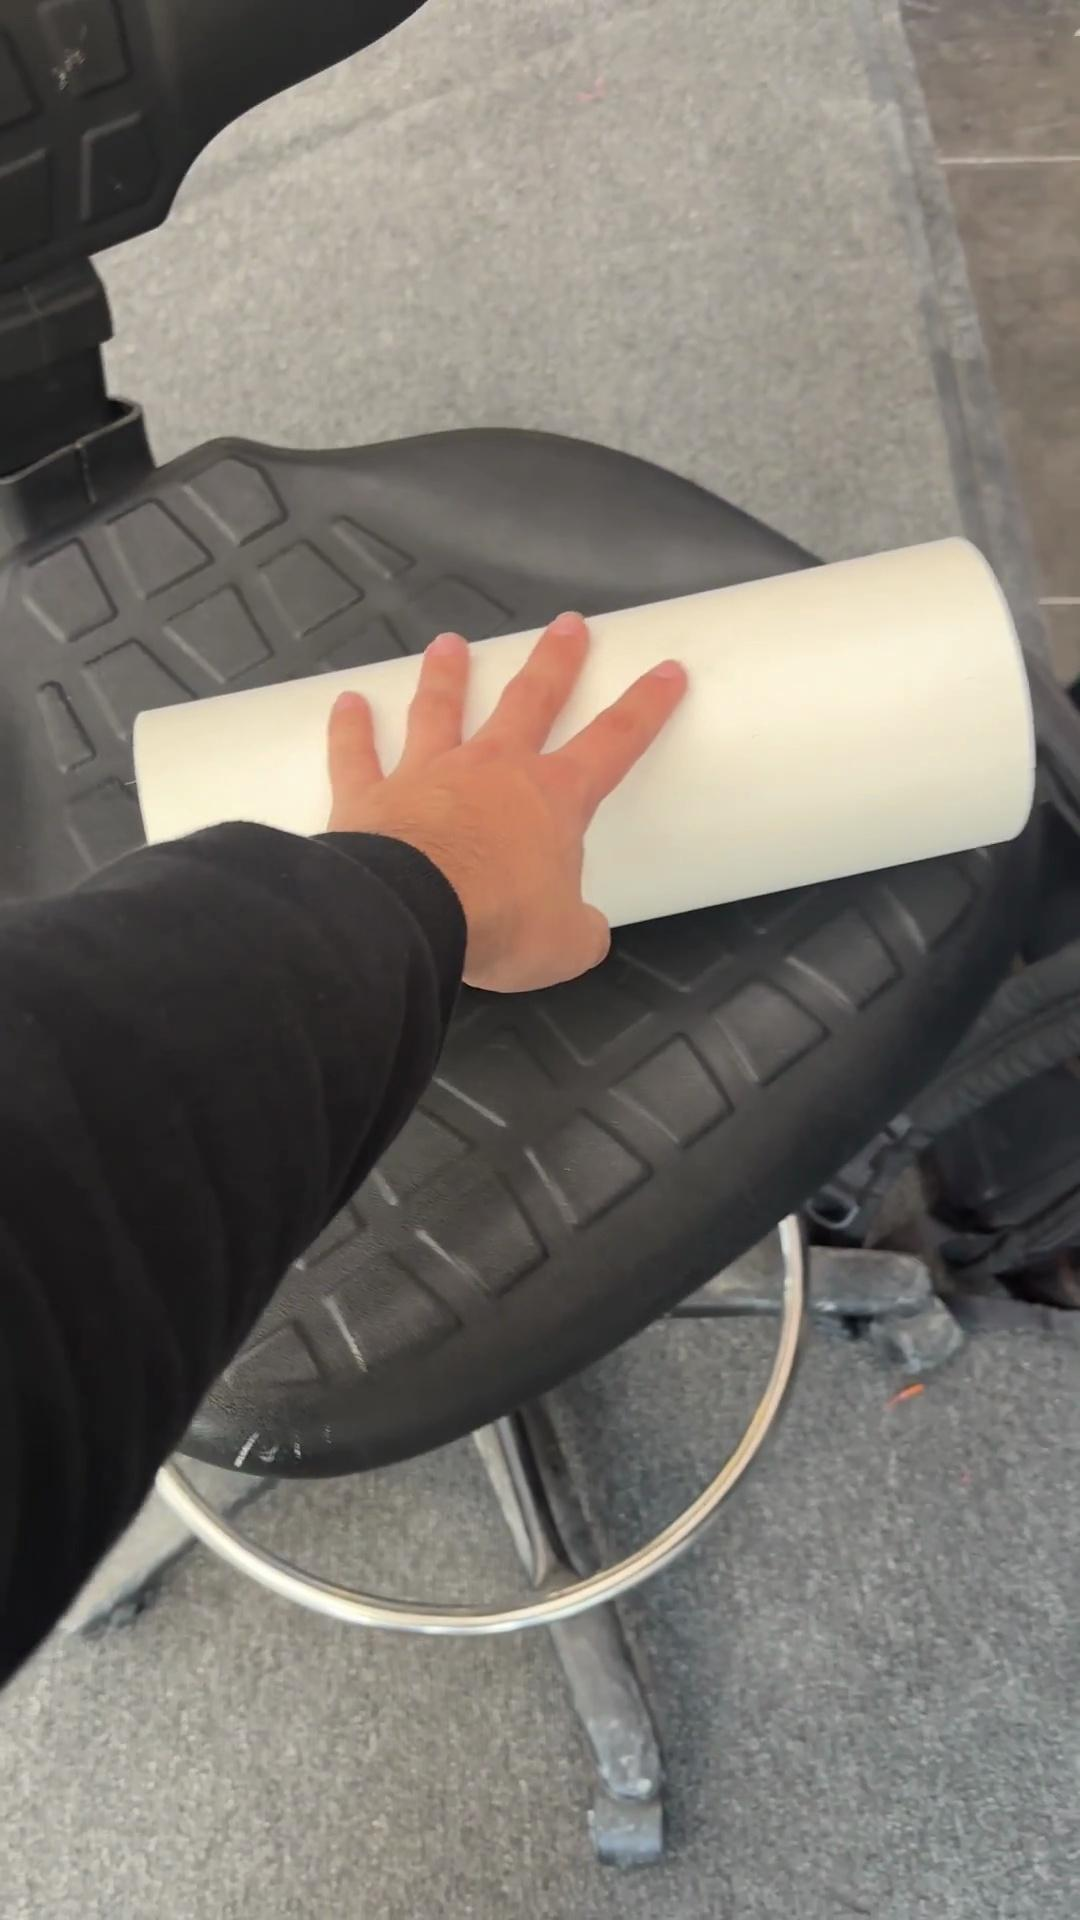CORAL: (128, 530, 1038, 934)
